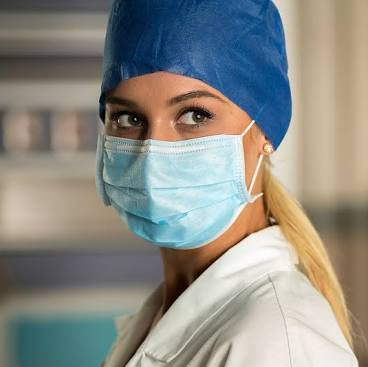FaceMask: (97, 134, 247, 249)
